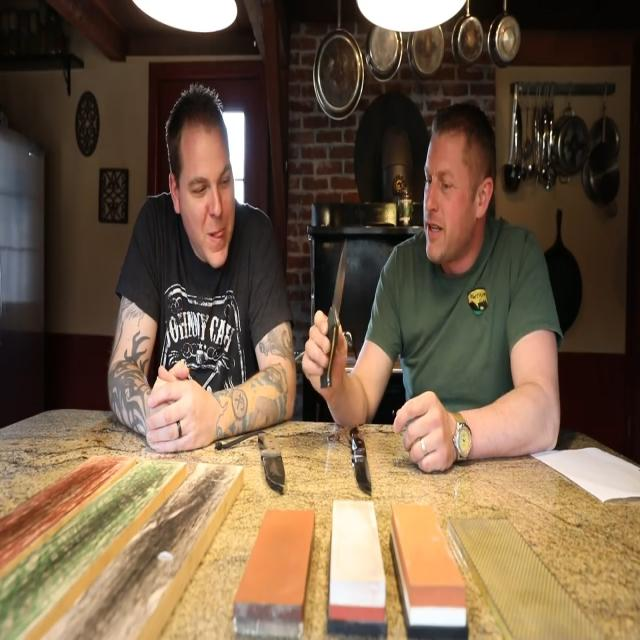knife: (322, 240, 354, 398), (257, 423, 287, 497), (348, 421, 376, 498)
